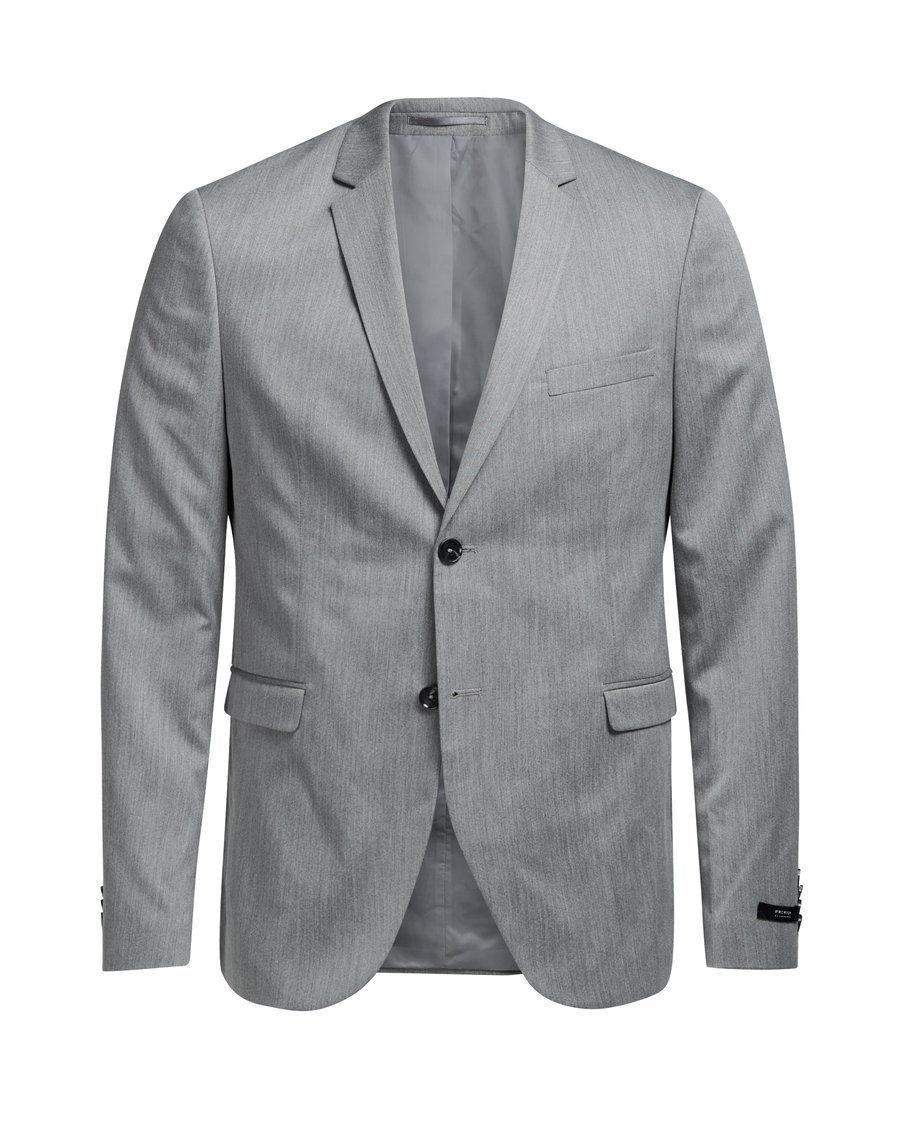teeshirt: (90, 89, 819, 1020)
